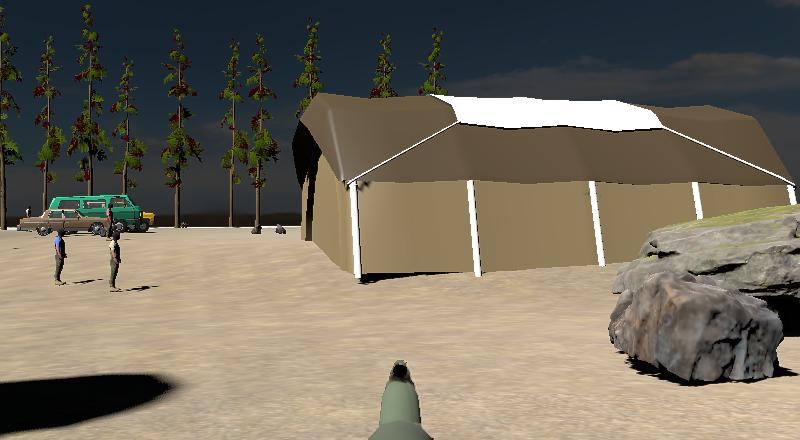Human: (108, 228, 123, 293), (53, 227, 68, 288)
car: (50, 194, 142, 229), (17, 209, 115, 236), (25, 209, 108, 236)
